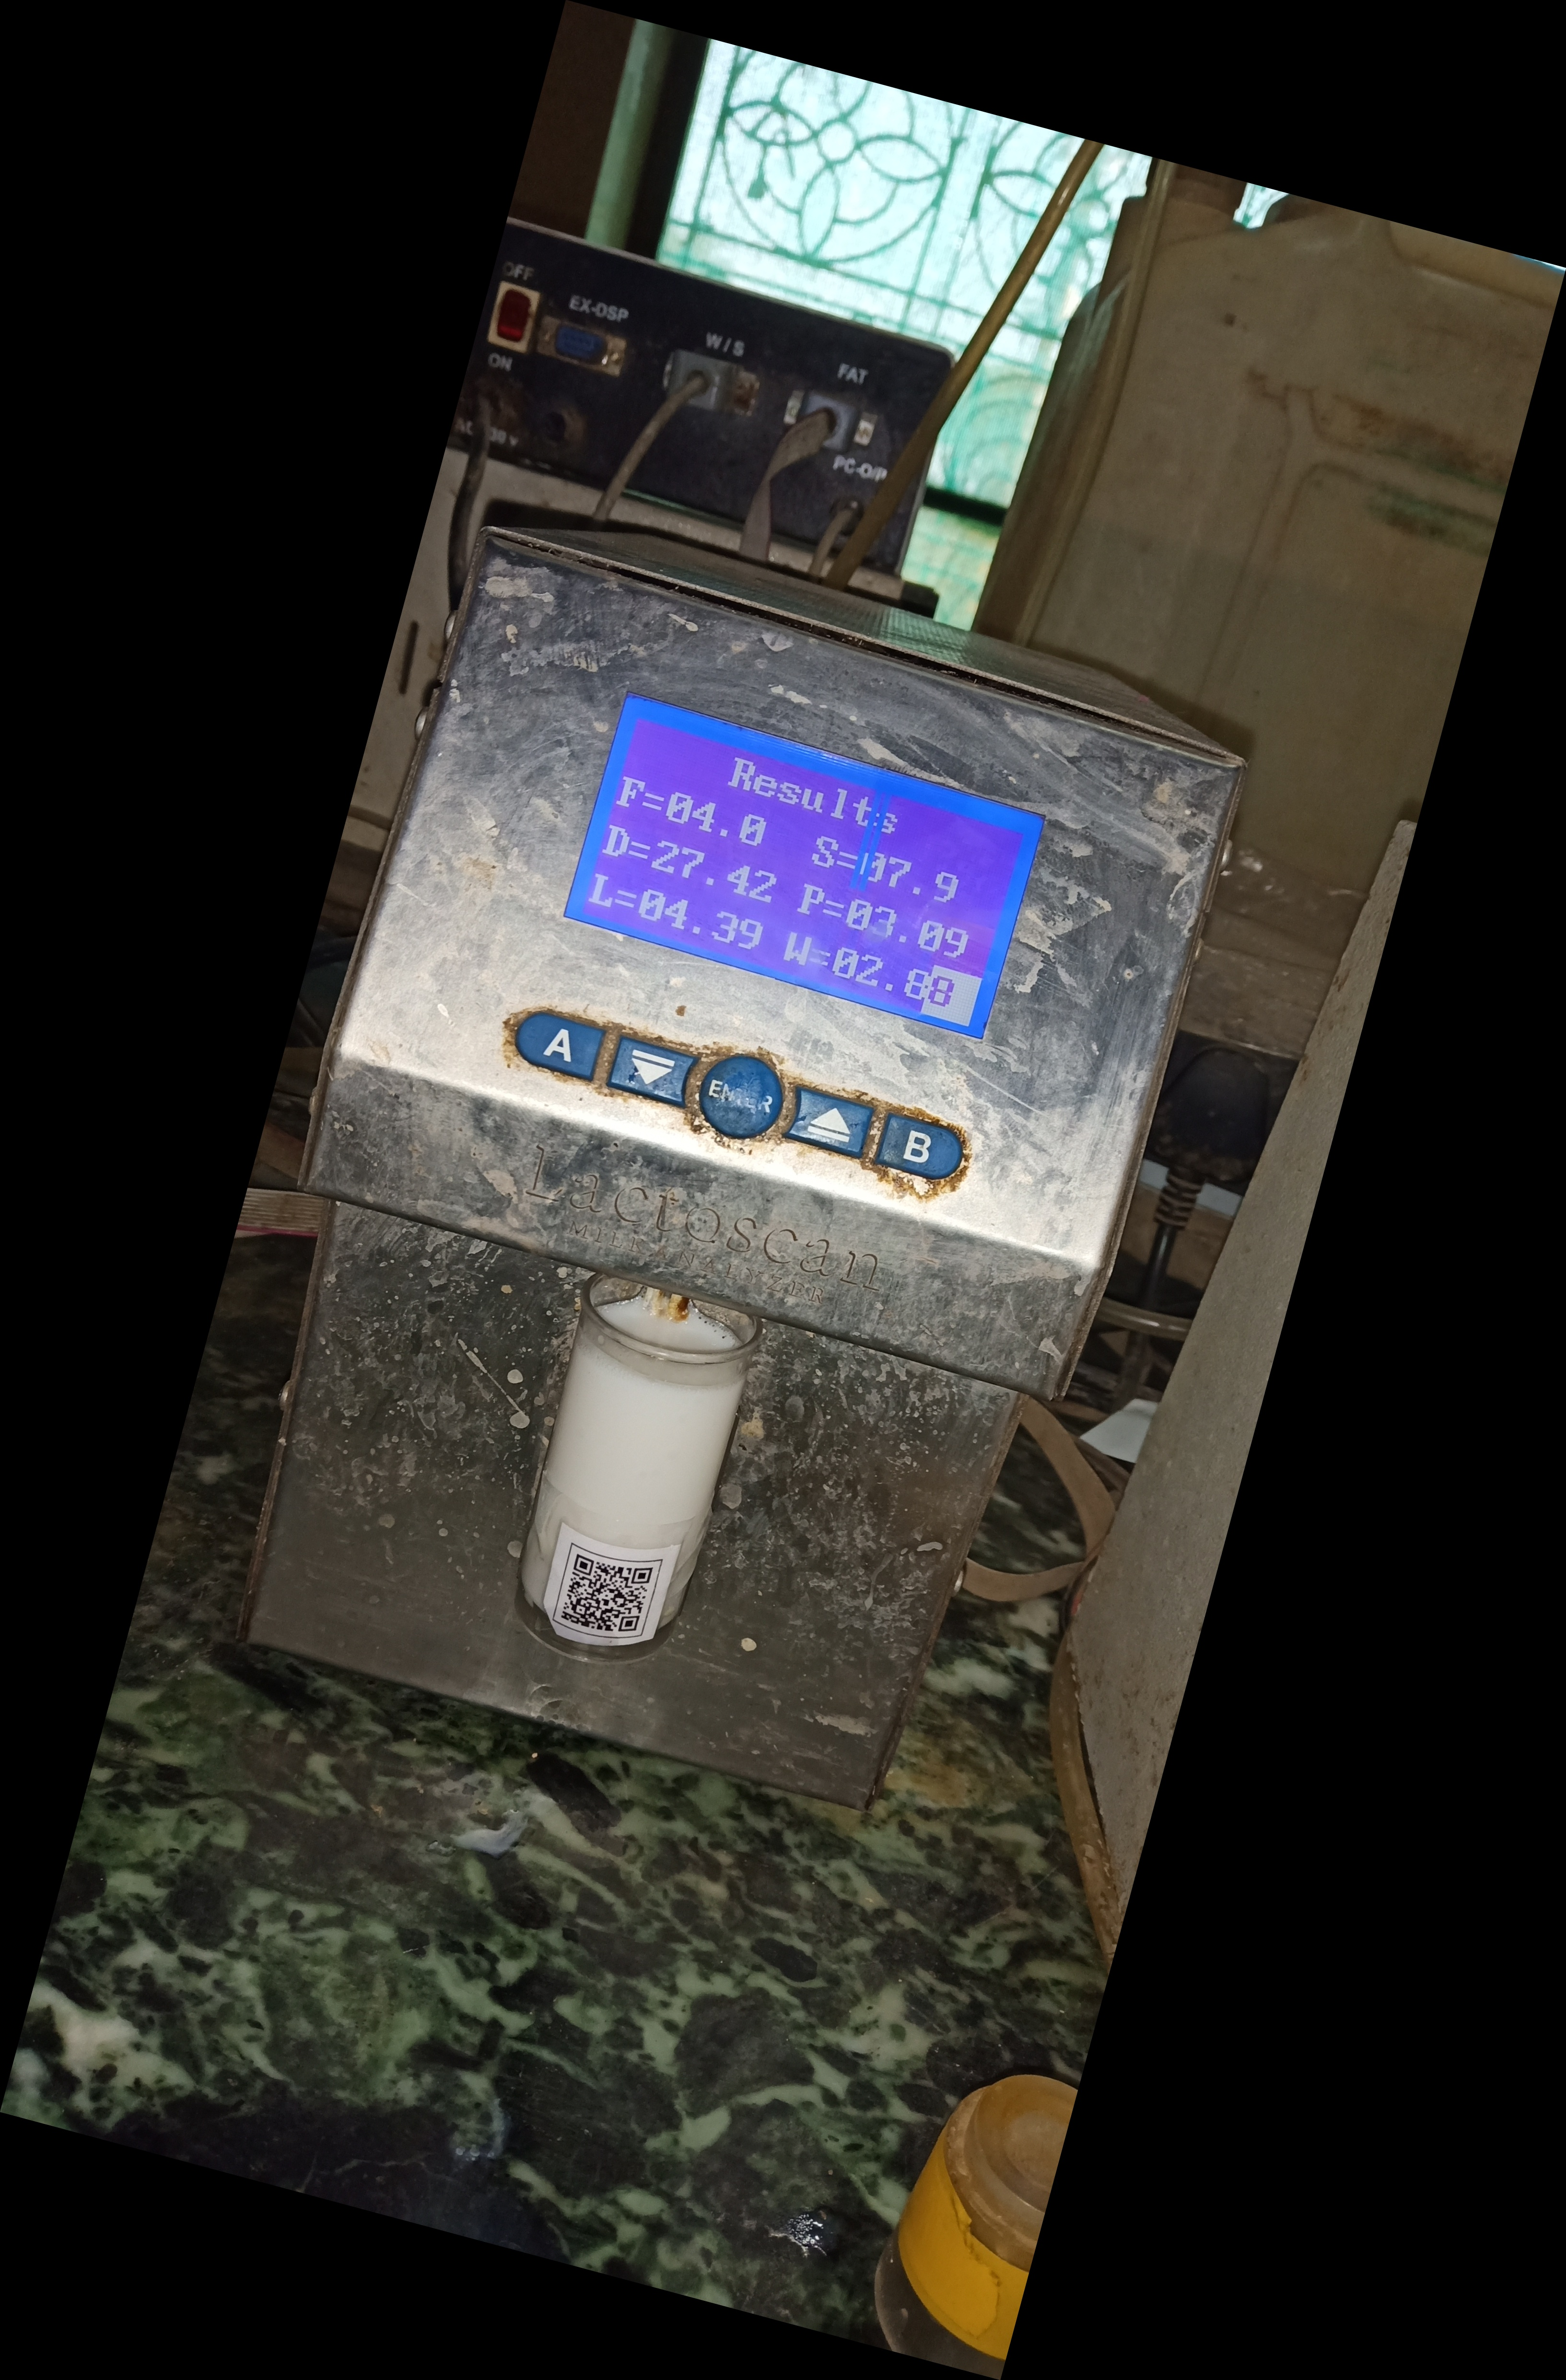lcd: (538, 673, 1057, 1064)
qr: (526, 1515, 682, 1672)
